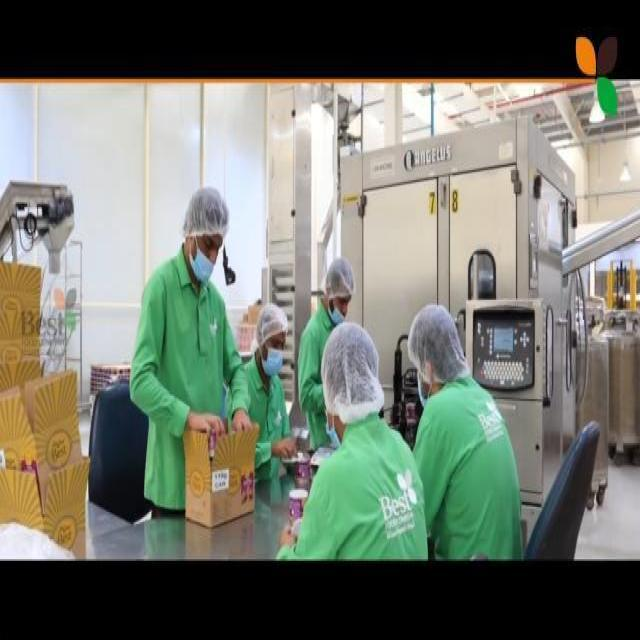bare_hand: (262, 428, 300, 468), (188, 406, 227, 441), (275, 520, 302, 559), (228, 406, 254, 440)
